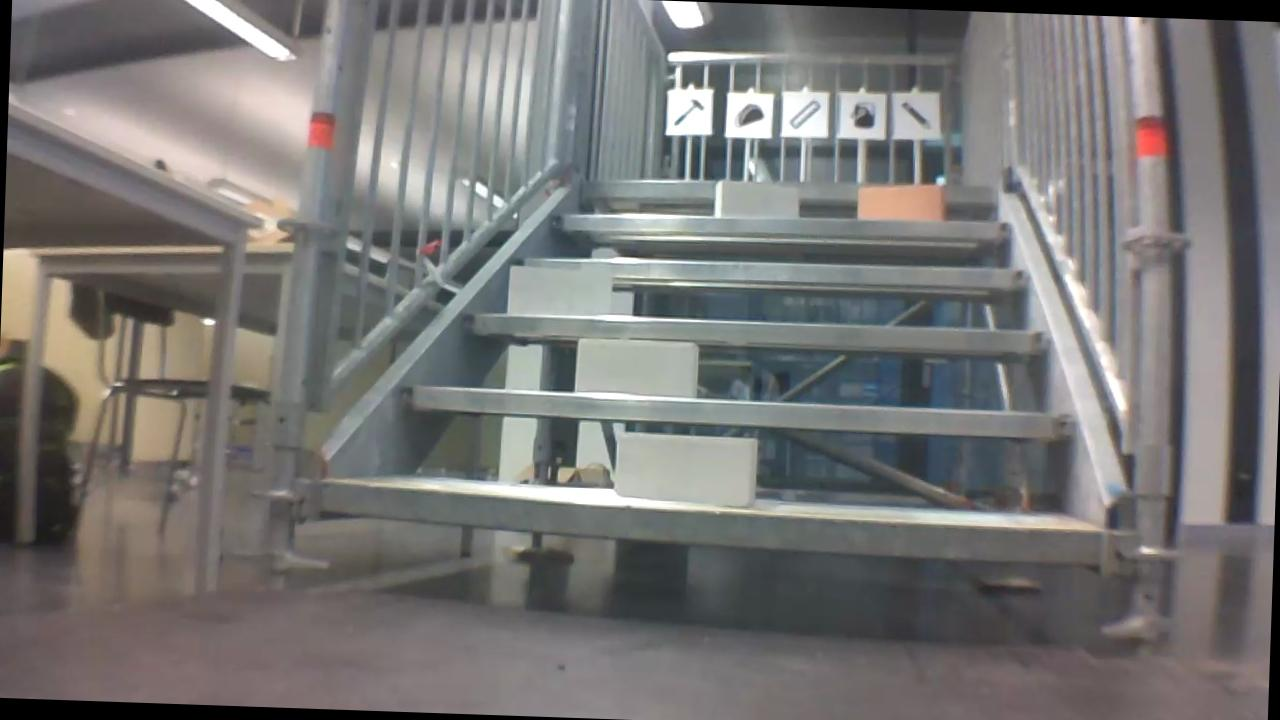brick: (613, 432, 756, 507), (574, 337, 698, 398), (508, 265, 612, 313), (713, 179, 798, 218), (860, 184, 943, 222)
bucket: (846, 96, 878, 131)
edge: (316, 480, 1105, 568), (398, 385, 1077, 438), (462, 311, 1050, 354), (516, 252, 1025, 289), (553, 207, 1008, 242), (579, 172, 1000, 206)
hammer: (672, 92, 706, 130)
pencil: (898, 97, 938, 134)
ruler: (786, 96, 820, 132)
steps: (308, 155, 1123, 582)
taco: (733, 100, 767, 131)
